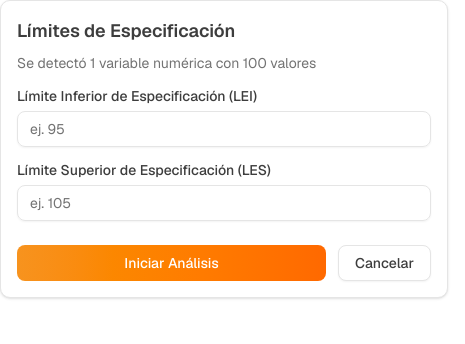
Test: SpecLimitsForm › required field validation › displays required error for empty LEI field on submit
The image size is (465, 344).
In the field labelled "Límite Superior de Especificación (LES)": (224, 203) [17, 185, 431, 221], type "105"
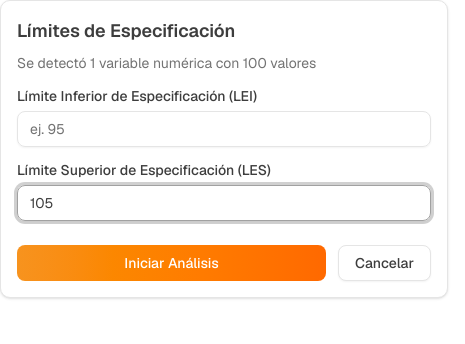
Click the button "Iniciar Análisis": (172, 263) [17, 245, 326, 281]
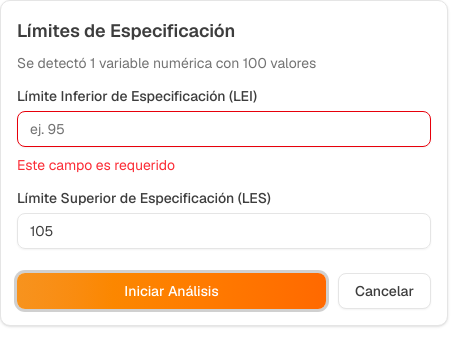
Expected: the text "Este campo es requerido" is shown, [17, 156, 175, 174]
